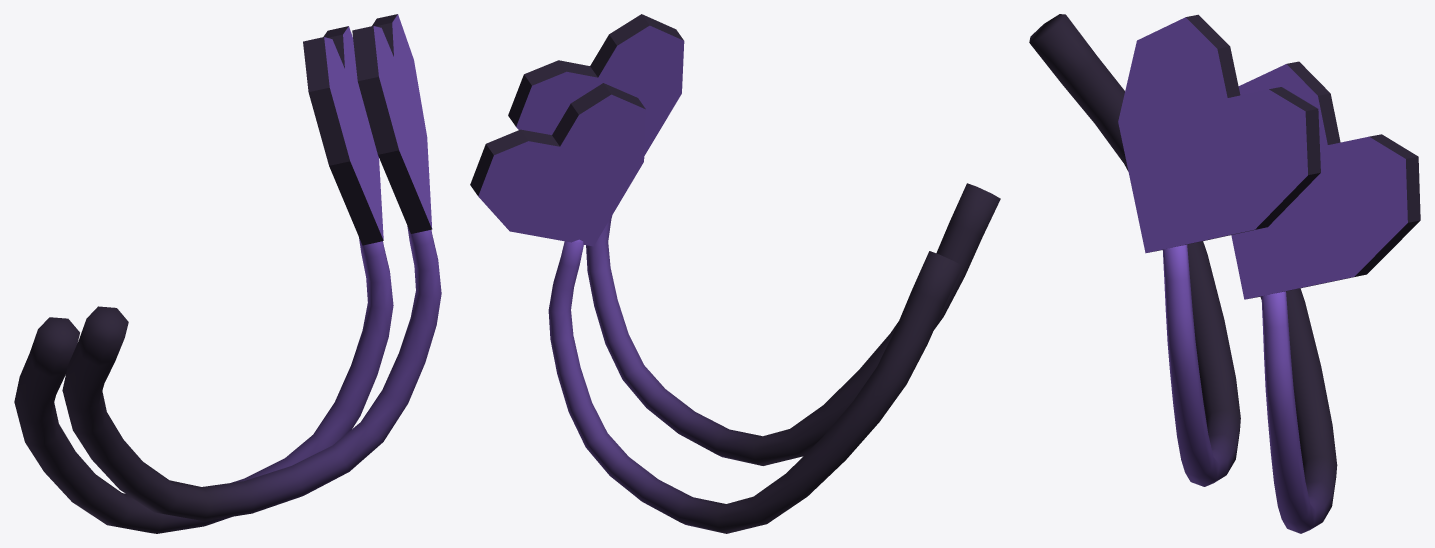
The model's file is dark_suc_parts.glb.
3 renders of one model, left to right at view 1: azimuth 30°, elevation 25°; view 2: azimuth 150°, elevation 25°; view 3: azimuth 270°, elevation 25°, orthographic. The views are drawn at different scales.
Visible parts, largest first — view 1: r1_CC_Base_Pelvis, r0_CC_Base_Pelvis; view 2: r0_CC_Base_Pelvis, r1_CC_Base_Pelvis; view 3: r1_CC_Base_Pelvis, r0_CC_Base_Pelvis.
Boxes of the visible parts, left/top/right/bottom form: r1_CC_Base_Pelvis: left=62, top=14, right=441, bottom=521; r0_CC_Base_Pelvis: left=14, top=26, right=393, bottom=533; r0_CC_Base_Pelvis: left=470, top=83, right=962, bottom=533; r1_CC_Base_Pelvis: left=508, top=14, right=1000, bottom=465; r1_CC_Base_Pelvis: left=1029, top=14, right=1320, bottom=486; r0_CC_Base_Pelvis: left=1231, top=61, right=1420, bottom=533.
Bounding box in the file's own units: 0.7047 × 0.776 × 0.4947.
